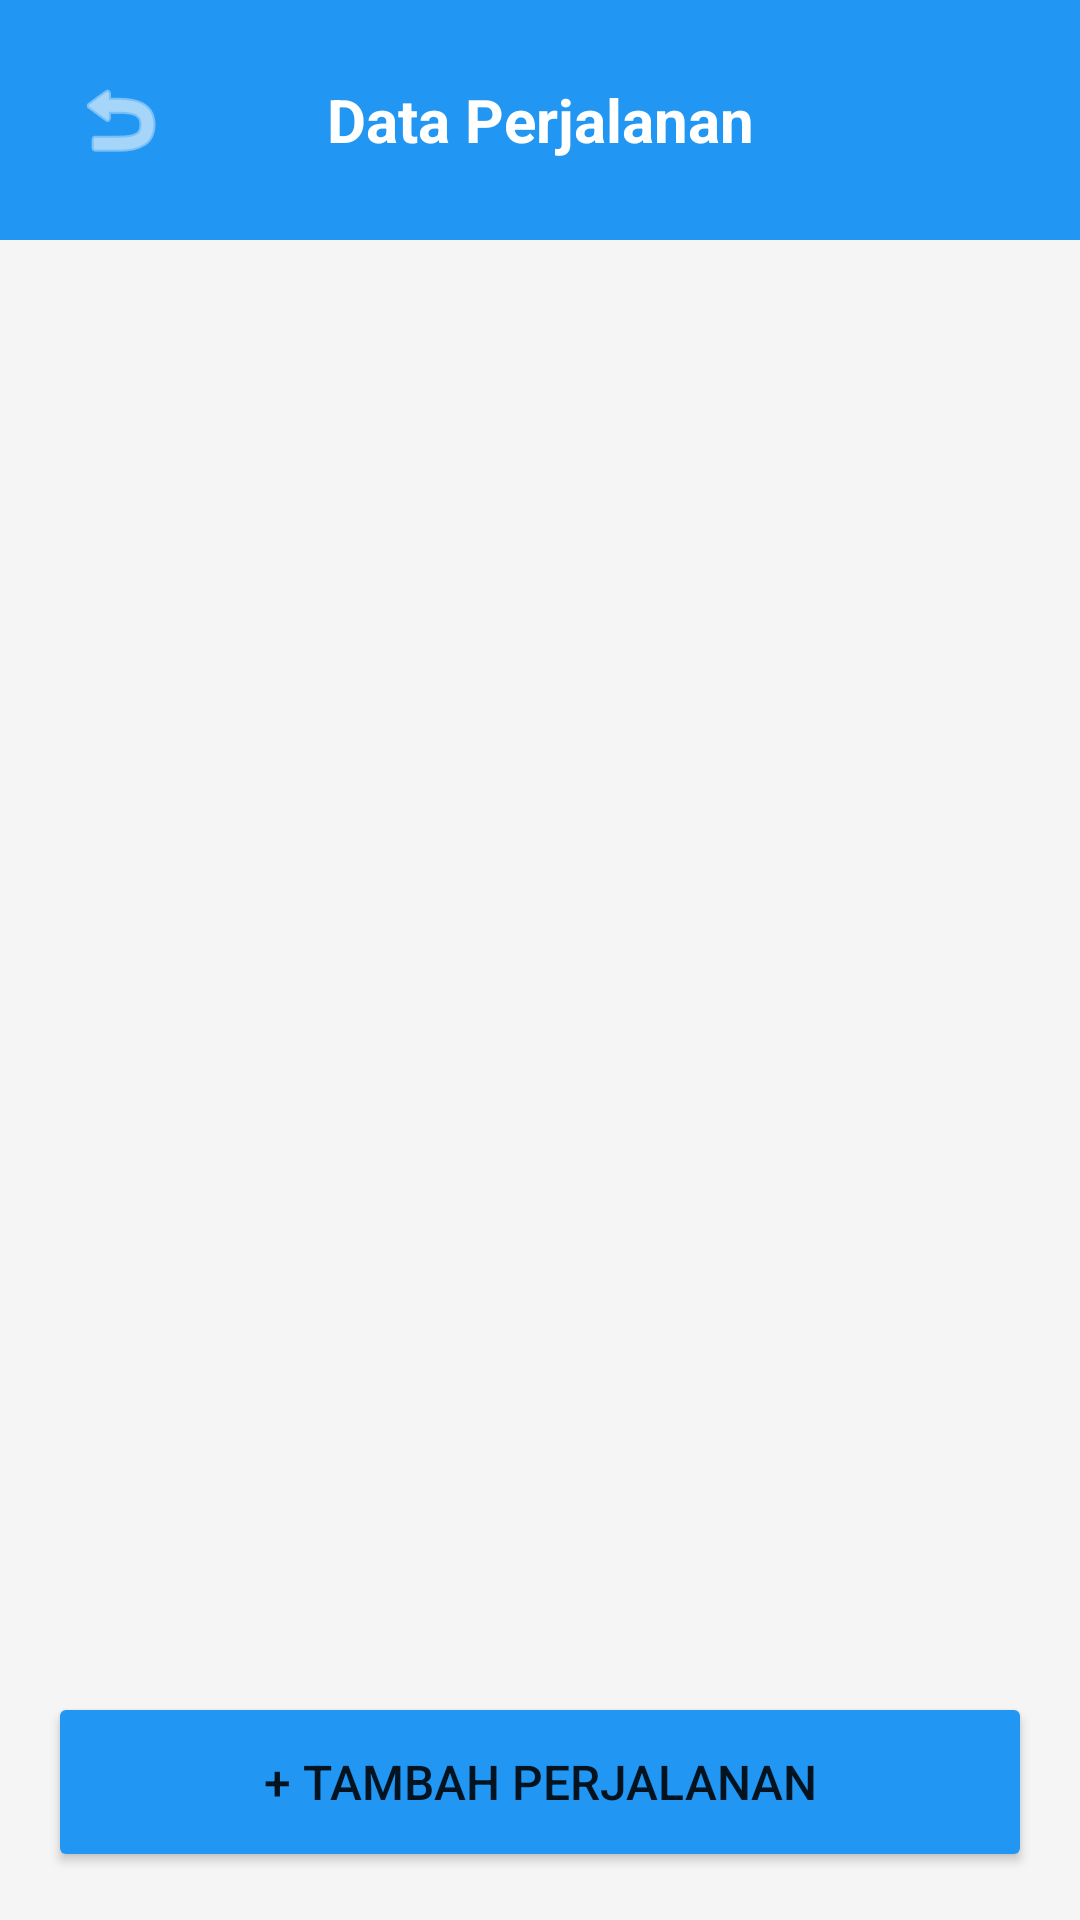

Icons on this 1080 × 1920 Android screen, each with the point to tap as (x=x, y=y):
revert: (x=121, y=120)
